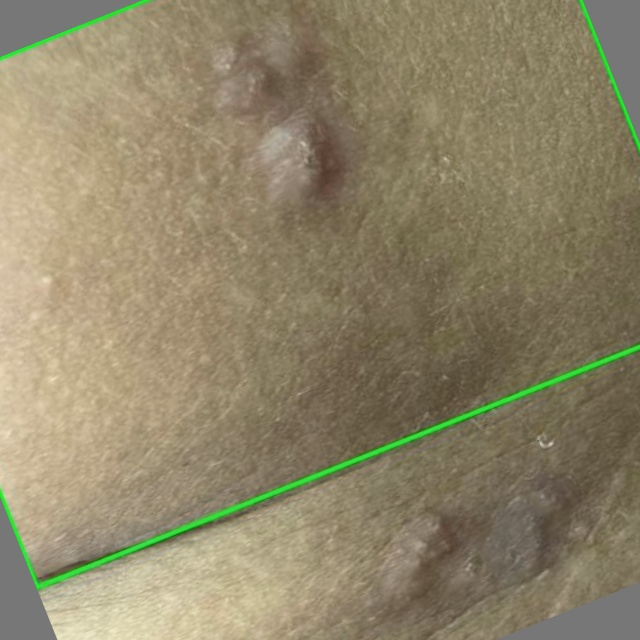Scabies: (0, 0, 639, 587)
